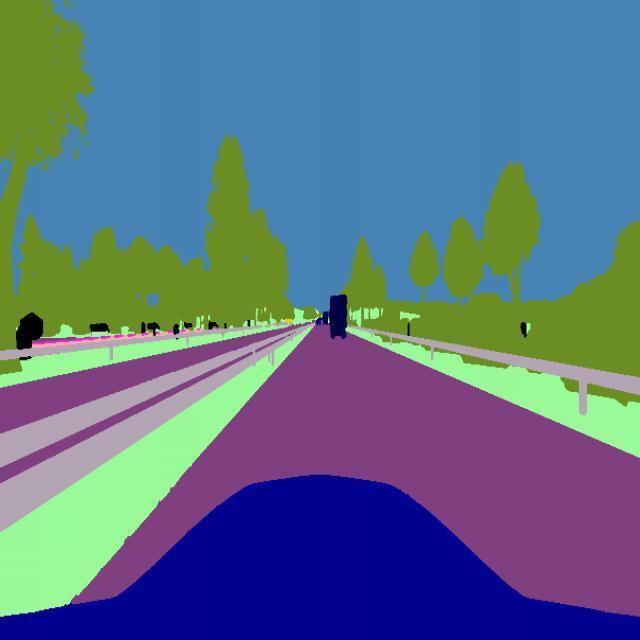safe: (326, 292, 351, 344)
